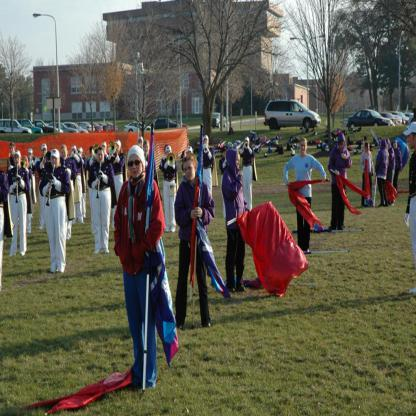face: (129, 152, 143, 179), (184, 162, 195, 181), (407, 133, 415, 149), (234, 153, 241, 169), (52, 155, 59, 169), (98, 151, 105, 164), (301, 143, 308, 155), (15, 155, 21, 167), (144, 143, 150, 155), (62, 150, 68, 161), (115, 144, 121, 154), (167, 151, 173, 161), (340, 140, 345, 151), (139, 139, 144, 149), (43, 148, 48, 157), (10, 146, 15, 155), (204, 138, 209, 147), (245, 140, 250, 148), (224, 150, 228, 159), (23, 158, 27, 167), (73, 149, 77, 157), (103, 144, 107, 152), (29, 152, 33, 159), (367, 144, 370, 152), (394, 143, 397, 151)
